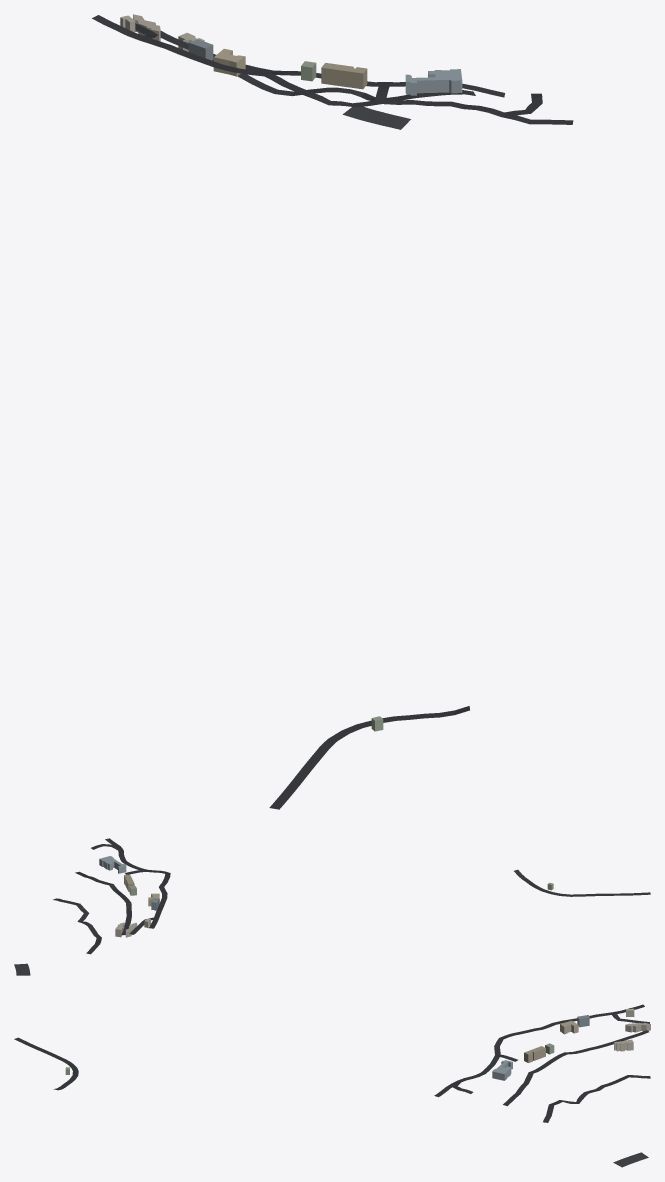
Rendered from tile_3_3.glb.
3 views of the same model, one above another, from view 1: azimuth 30°, elevation 25°; view 2: azimuth 150°, elevation 25°; view 3: azimuth 270°, elevation 25° (orthographic). The views are drawn at different scales.
Parts seen in each view (by area): view 1: road_3_3, bld_3_3; view 2: road_3_3, bld_3_3; view 3: road_3_3, bld_3_3.
Part boxes in pixels (left/top/right/bottom): road_3_3: left=92, top=15, right=573, bottom=809; bld_3_3: left=120, top=14, right=462, bottom=731; road_3_3: left=14, top=838, right=650, bottom=975; bld_3_3: left=99, top=856, right=553, bottom=937; road_3_3: left=14, top=1004, right=650, bottom=1167; bld_3_3: left=65, top=1008, right=650, bottom=1080.
Bounding box in the file's own units: 561 × 200 × 820.
